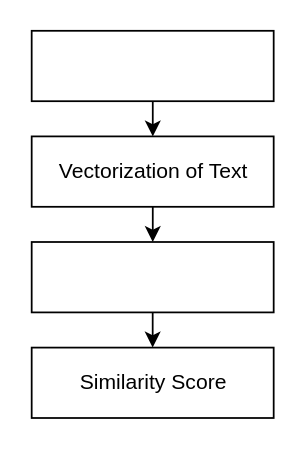
Image size: 304x449. Some labels were removed from this diagram. Here are the shapes that lost their labels. From the top down, the box of each, then its label:
(30, 29, 274, 101): Document File (PDF format)
(30, 240, 274, 312): Compute similarity using Cosine Similarity
